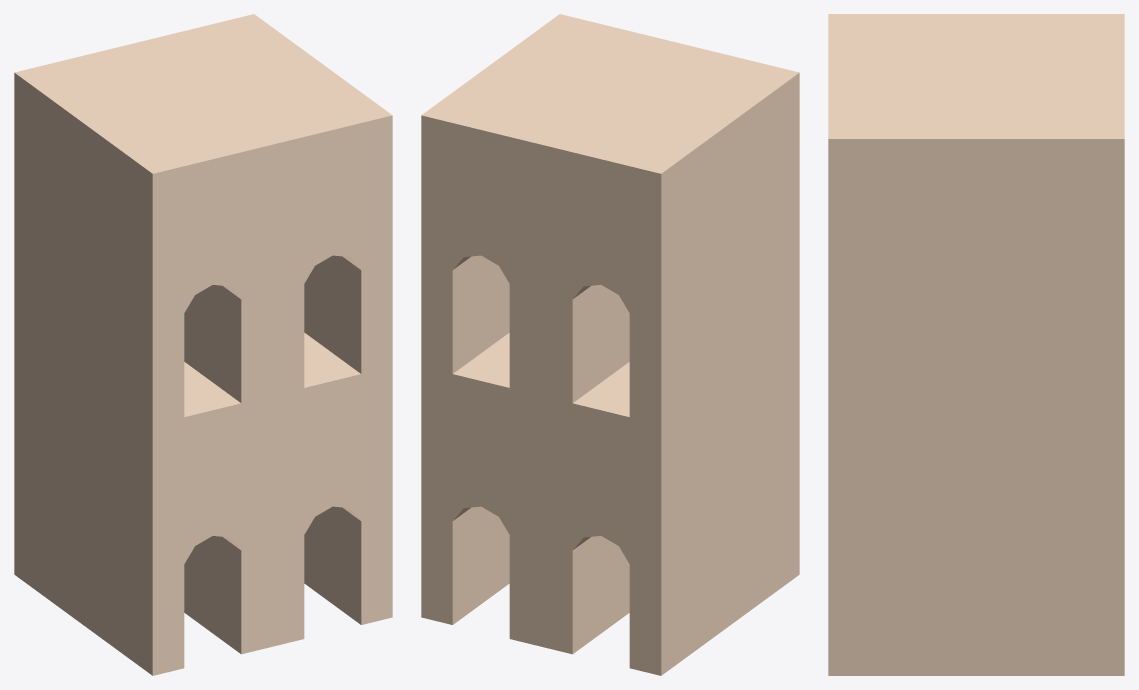
Rendered from Abstract_Castle_Block_Double_MultiArchSmall_Cream_02.fbx.
The picture shows the model from 3 angles, left to right: view 1: azimuth 30°, elevation 25°; view 2: azimuth 150°, elevation 25°; view 3: azimuth 270°, elevation 25°; orthographic projection. The views are drawn at different scales.
Visible parts, largest first — view 1: Model; view 2: Model; view 3: Model.
Boxes of the visible parts, box(x1,y1,x2,y2) form: Model: box(14, 14, 392, 675); Model: box(421, 14, 799, 675); Model: box(828, 14, 1124, 675).
Bounding box in the file's own units: 1000 × 2000 × 1000.
